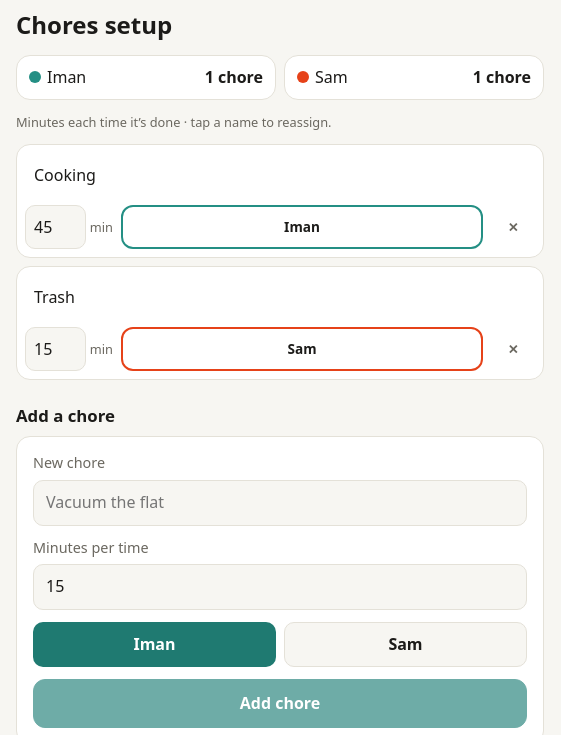
Scenario: add form with empty minutes does not add, keeps the form and explains
Type "Vacuum" into the field labelled "New chore" at (280, 503), box [33, 480, 527, 526]
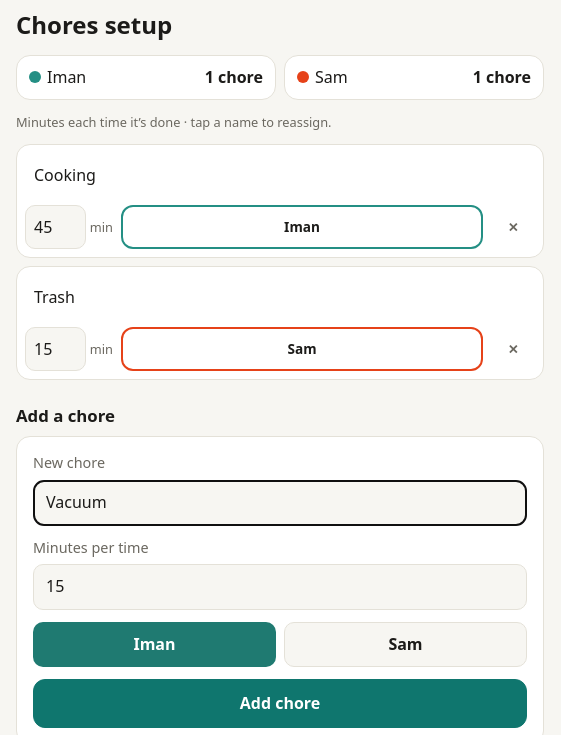
Clear the field labelled "Minutes per time" at (280, 587), box [33, 564, 527, 610]
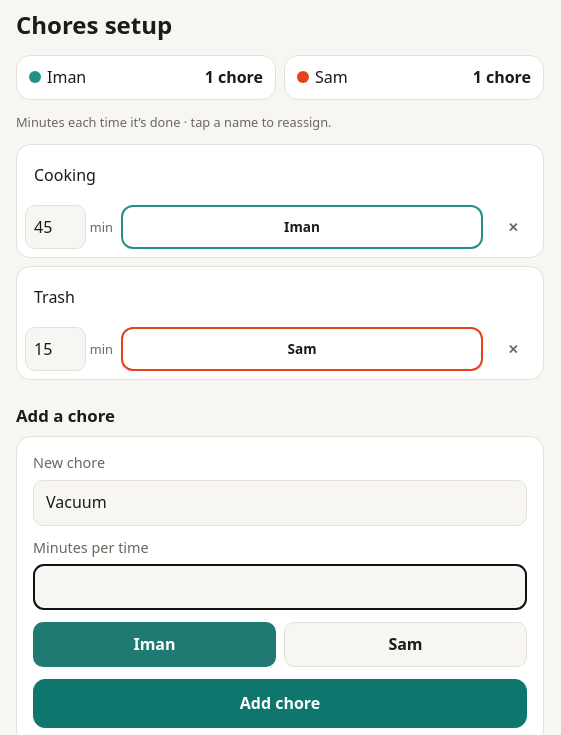
Click the button "Add chore" at (280, 703), box [33, 679, 527, 728]
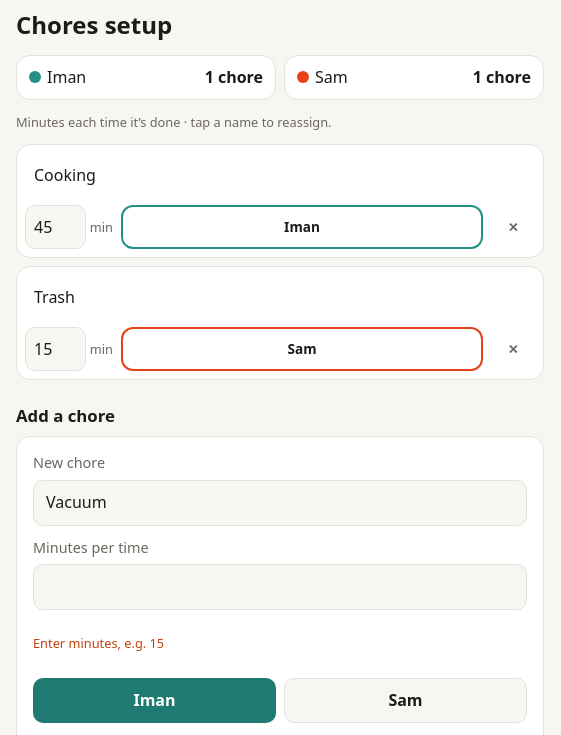
Result: the message reads "Enter minutes, e.g. 15" at [33, 634, 164, 652]
